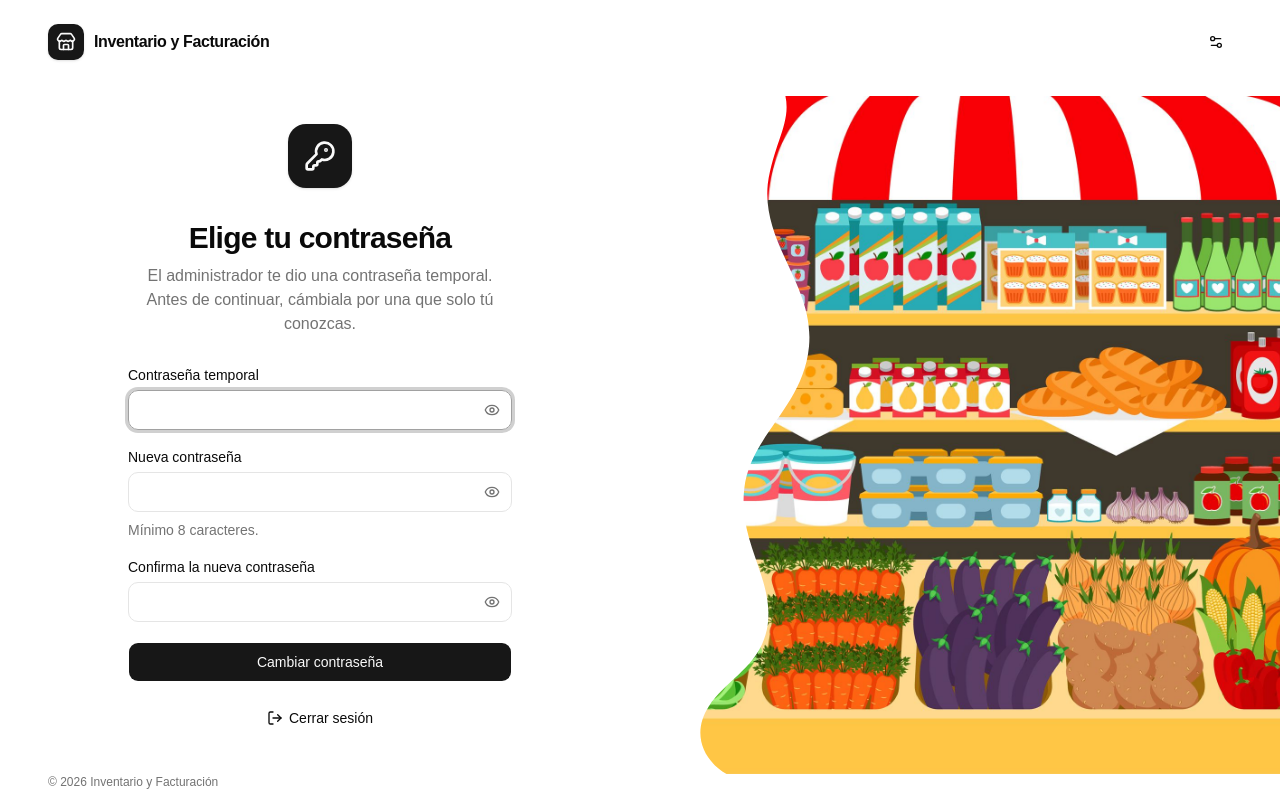
ChangePasswordPage › shows a wrong temporary password next to its field
Type "wrong-temporary" into the password field labelled "Contraseña temporal" at [320, 410], box [128,390,512,430]
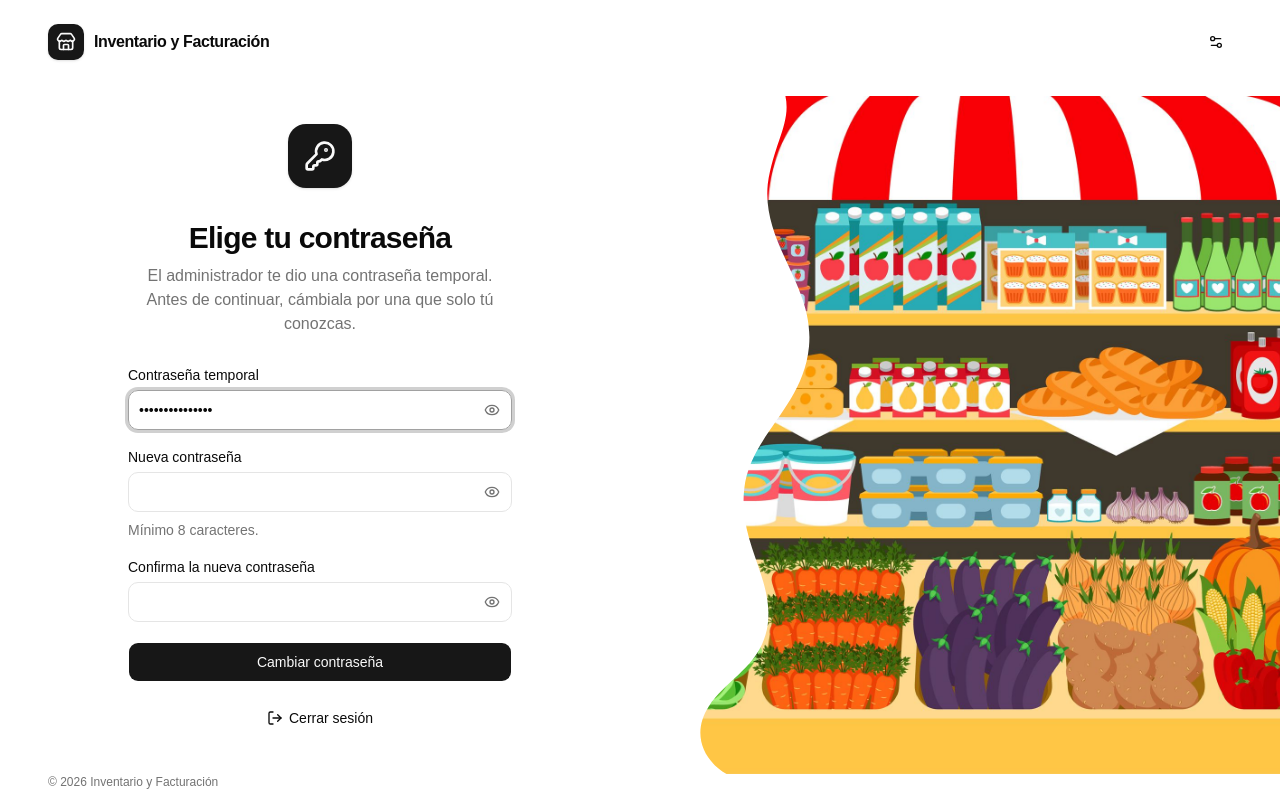
Type "brand-new-pass-1" into the password field labelled "Nueva contraseña" at [320, 492], box [128,472,512,512]
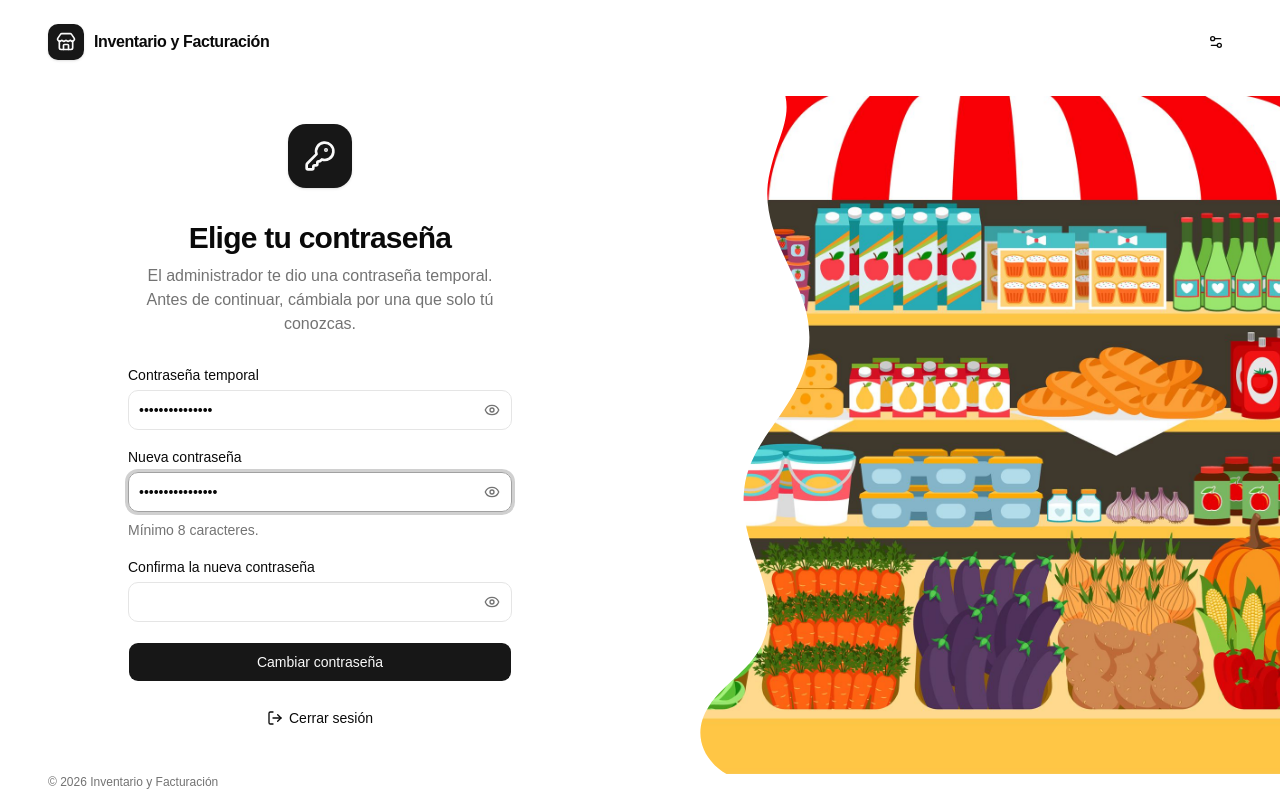
Type "brand-new-pass-1" into the password field labelled "Confirma la nueva contraseña" at [320, 602], box [128,582,512,622]
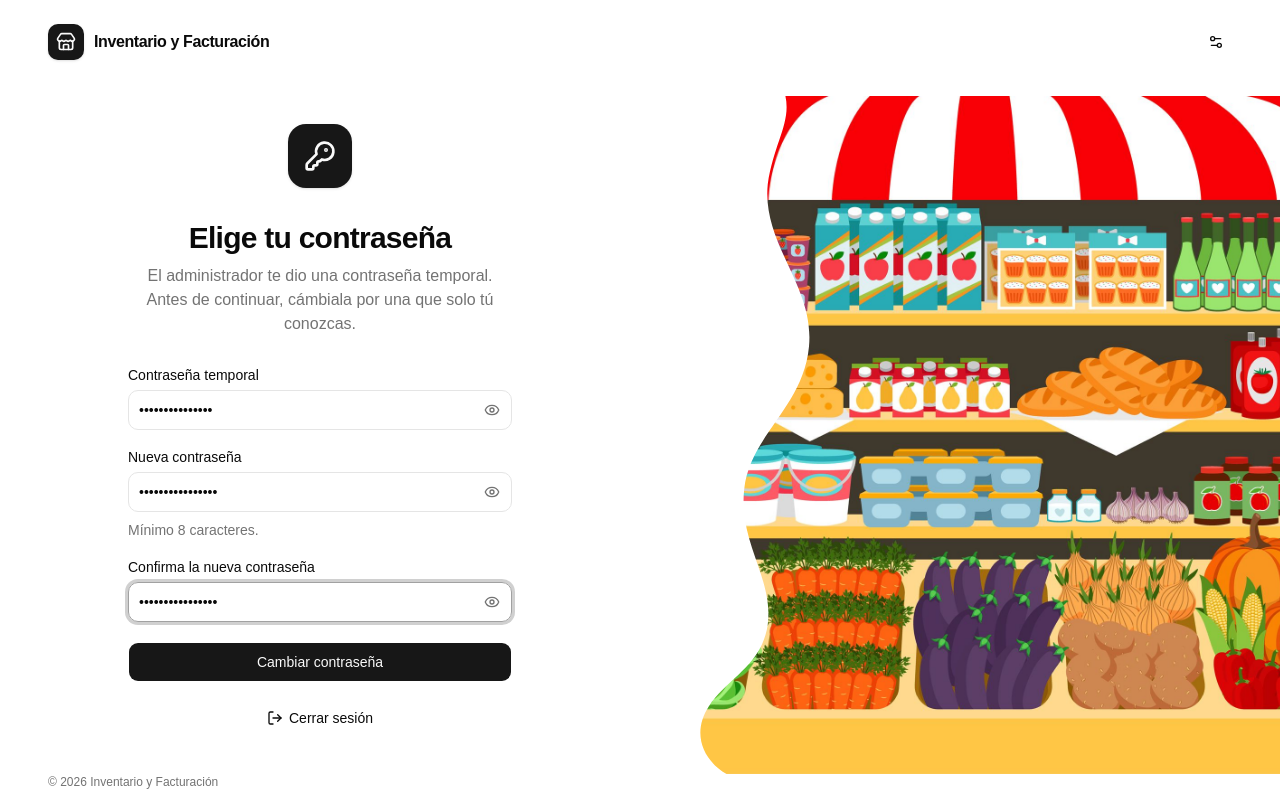
Click the button "Cambiar contraseña" at [320, 662], box [128,642,512,682]
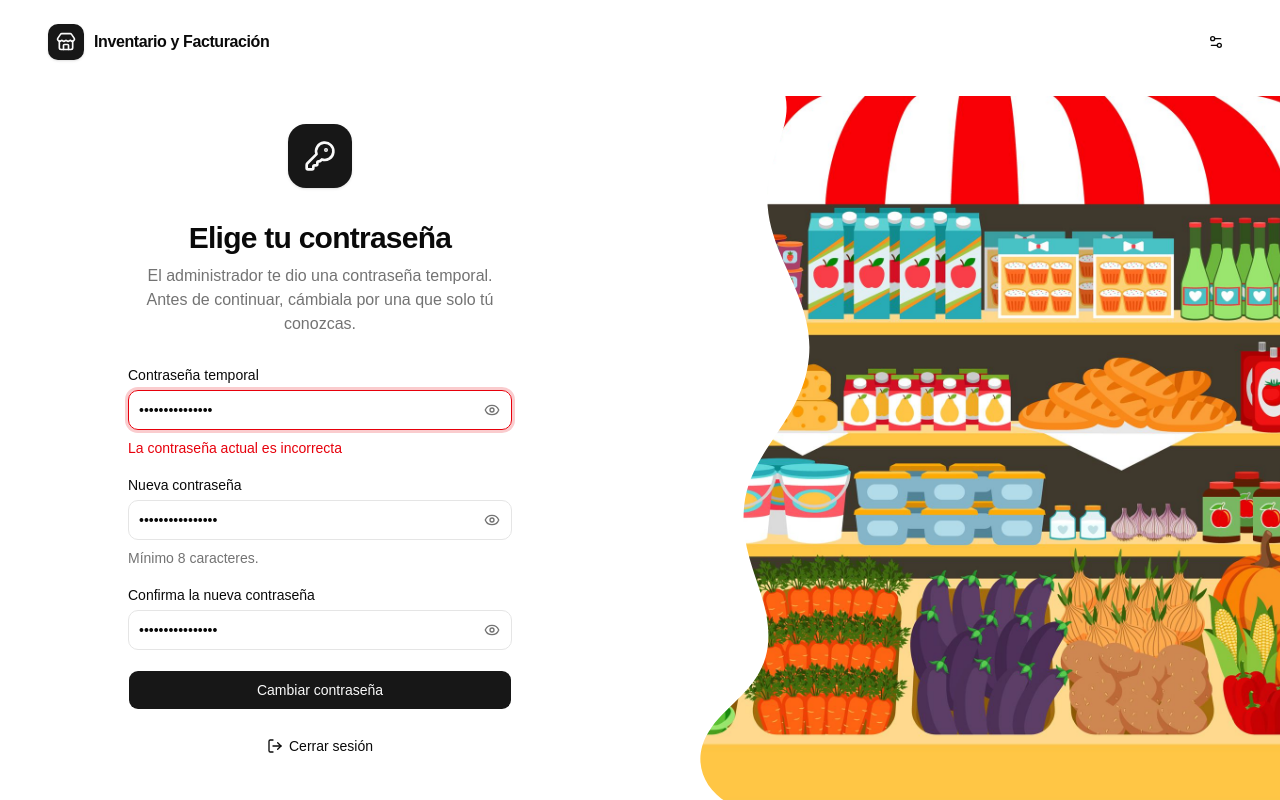
Result: the text "La contraseña actual es incorrecta" is shown at [128,440,342,456]
